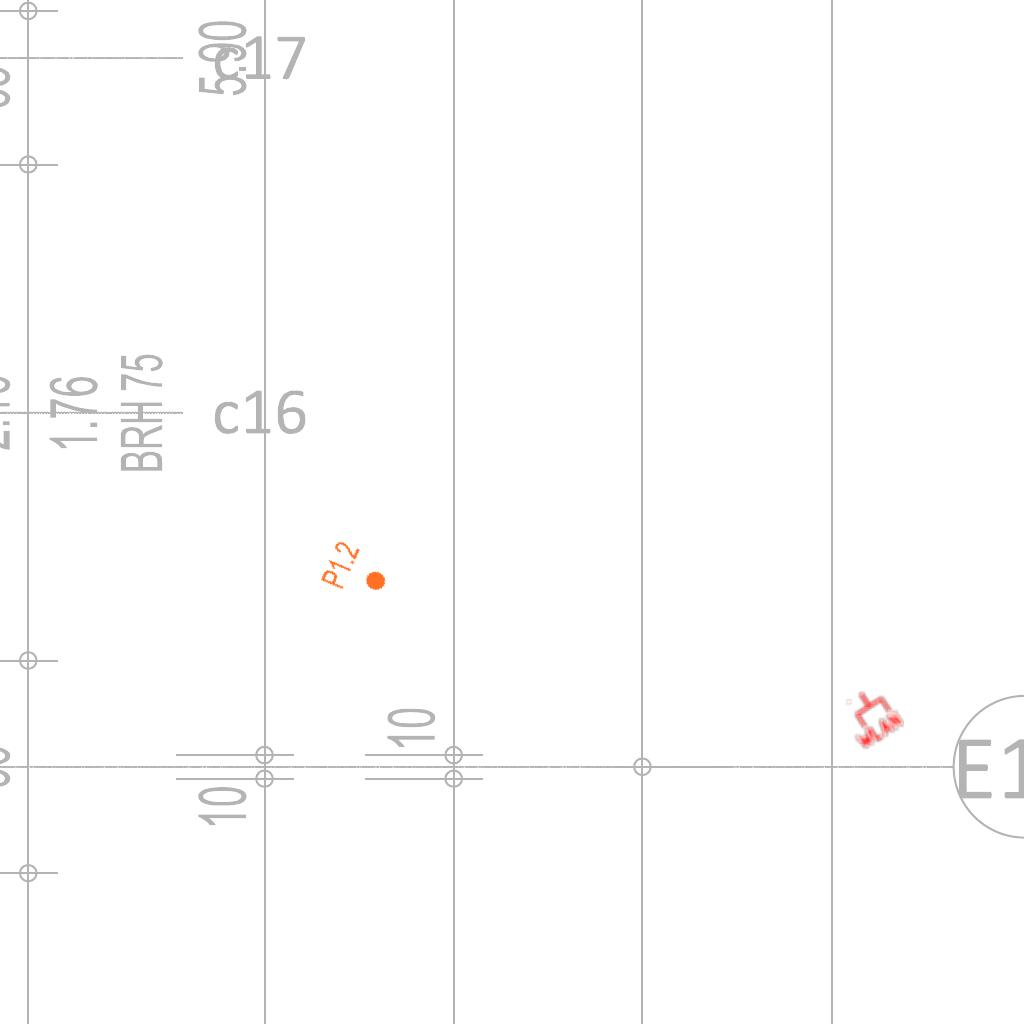Downlight_LED_Einbauleuchten_Flur: (318, 538, 396, 606)
WLAN: (834, 680, 906, 752)
